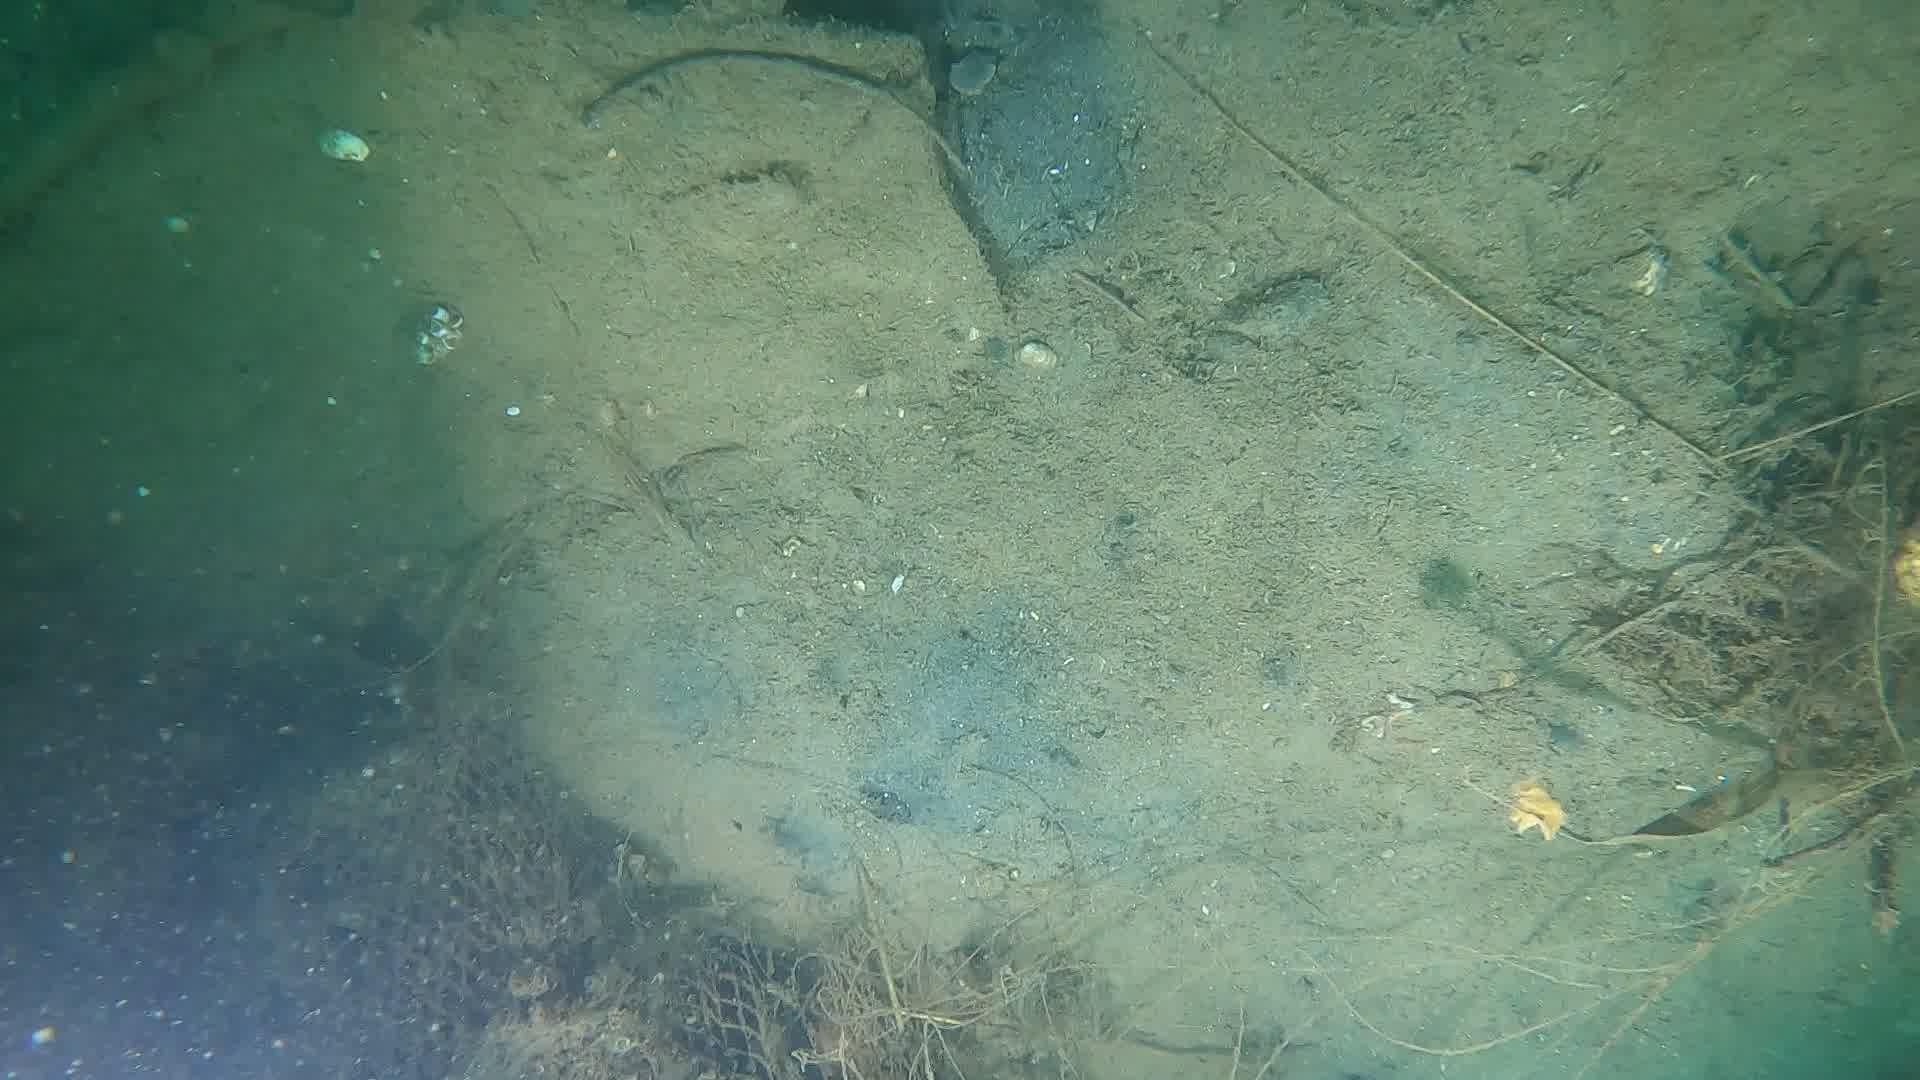fish net: (357, 724, 785, 1080)
